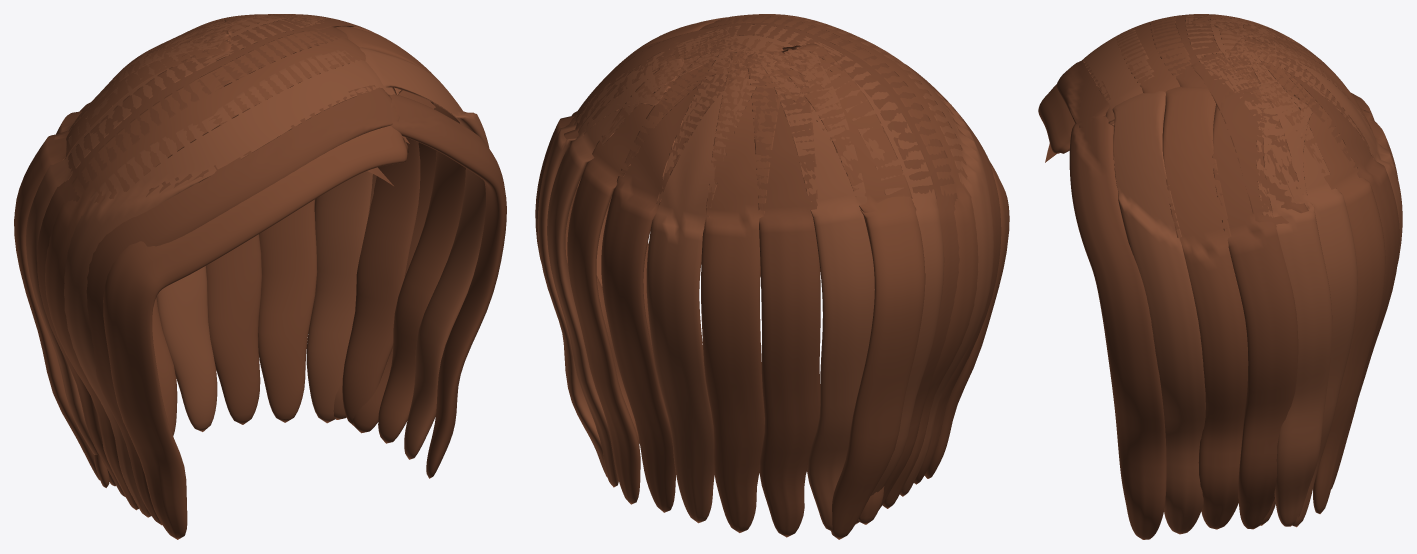
File: Feminine-side-sweep-headband260-hair.glb
The picture shows the model from 3 angles, left to right: view 1: azimuth 30°, elevation 25°; view 2: azimuth 150°, elevation 25°; view 3: azimuth 270°, elevation 25°; orthographic projection. The views are drawn at different scales.
Parts seen in each view (by area): view 1: 226 hair / Hair / sculpted 0.002, 226 hair / Hair / sculpted 1.004, 226 hair / Hair / sculpted 2.002; view 2: 226 hair / Hair / sculpted 0.002, 226 hair / Hair / sculpted 2.002, 226 hair / Hair / sculpted 1.004; view 3: 226 hair / Hair / sculpted 1.004, 226 hair / Hair / sculpted 2.002, 226 hair / Hair / sculpted 0.002.
Part boxes in pixels (x1,y1,x2,y2): 226 hair / Hair / sculpted 0.002: (14,14,465,539); 226 hair / Hair / sculpted 1.004: (37,14,506,525); 226 hair / Hair / sculpted 2.002: (26,14,489,517); 226 hair / Hair / sculpted 0.002: (565,14,1009,539); 226 hair / Hair / sculpted 2.002: (537,14,993,530); 226 hair / Hair / sculpted 1.004: (535,16,1001,537); 226 hair / Hair / sculpted 1.004: (1056,14,1399,539); 226 hair / Hair / sculpted 2.002: (1083,14,1402,534); 226 hair / Hair / sculpted 0.002: (1038,14,1398,529).
Bounding box in the file's own units: 1.01 × 1.07 × 0.8006.
